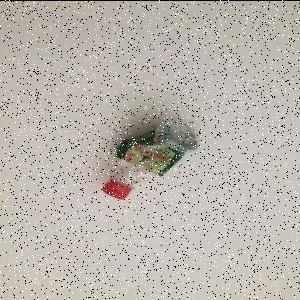Plastic-bottle: (101, 120, 201, 202)
